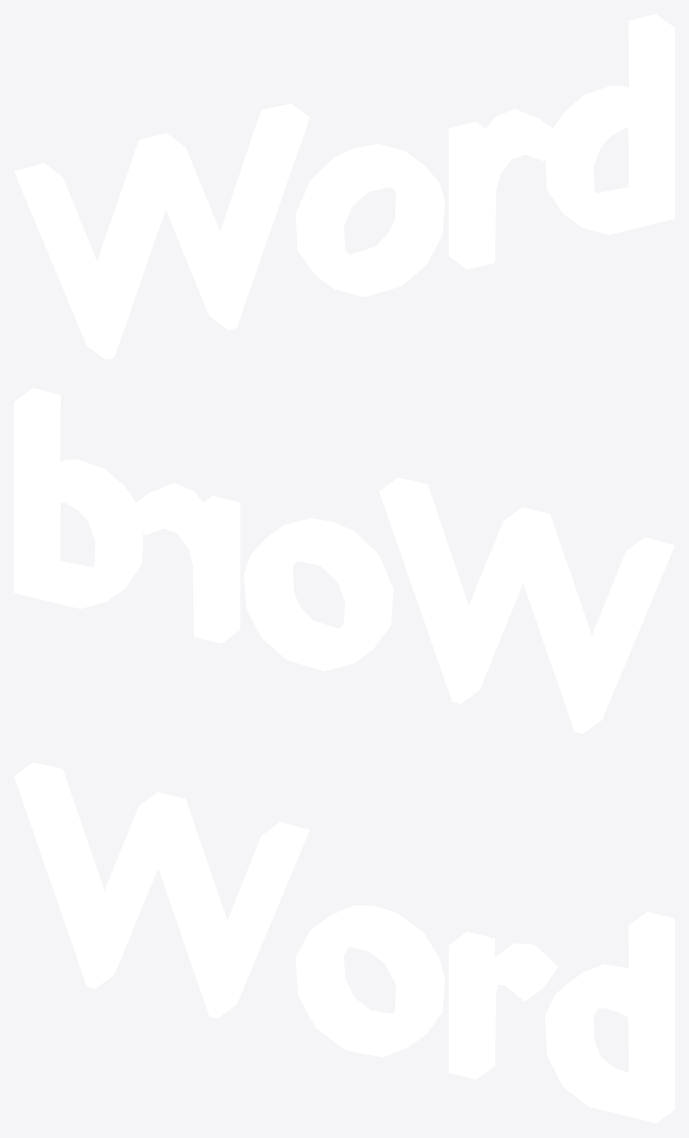
The model's file is textWord.glb.
The picture shows the model from 3 angles, top to bottom: view 1: azimuth 30°, elevation 25°; view 2: azimuth 150°, elevation 25°; view 3: azimuth 330°, elevation 25°; orthographic projection.
Parts seen in each view (by area): view 1: TextWords; view 2: TextWords; view 3: TextWords.
Boxes of the visible parts, box(x1,y1,x2,y2) form: TextWords: box(14, 14, 674, 359); TextWords: box(14, 388, 674, 733); TextWords: box(14, 762, 674, 1123).
Bounding box in the file's own units: 1.48 × 0.4259 × 0.0825.
Materials: 1 (1 with a texture image).
